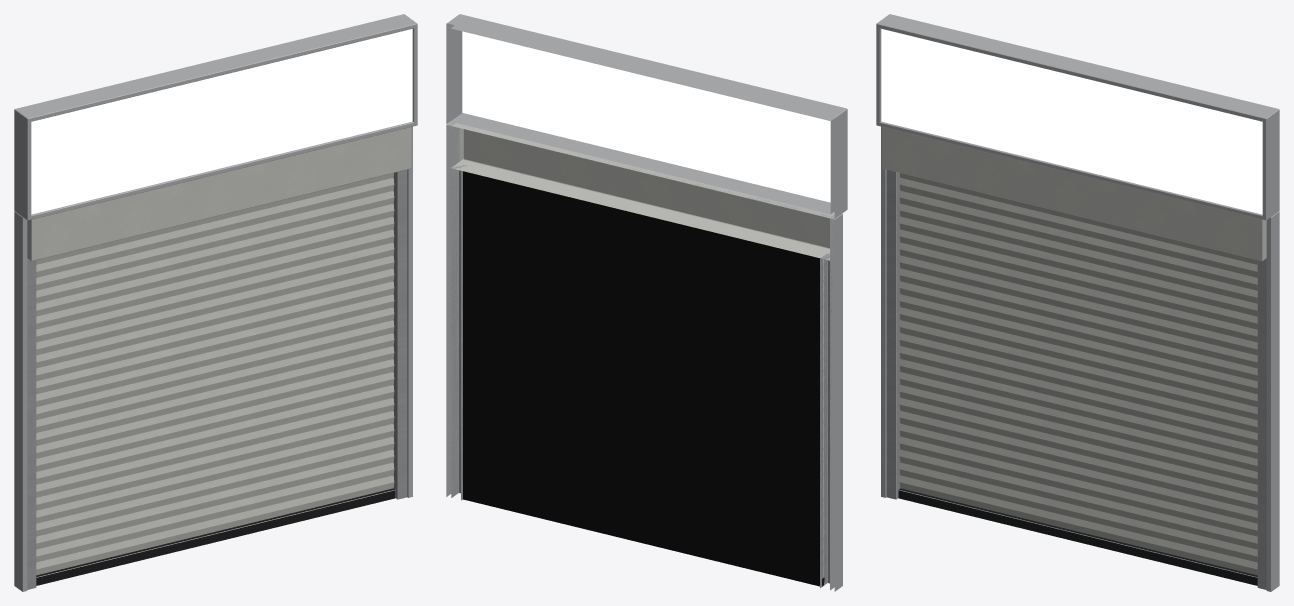
The model's file is gteki_shopfront_shutter_w2400_closed.glb.
The picture shows the model from 3 angles, left to right: view 1: azimuth 30°, elevation 25°; view 2: azimuth 150°, elevation 25°; view 3: azimuth 330°, elevation 25°; orthographic projection.
Parts seen in each view (by area): view 1: VIS_curtain, VIS_art, VIS_frame, VIS_panels, VIS_fascia; view 2: VIS_backing, VIS_art, VIS_panels, VIS_fascia, VIS_frame, VIS_curtain; view 3: VIS_curtain, VIS_art, VIS_frame, VIS_panels, VIS_fascia.
Part boxes in pixels (x1,y1,x2,y2): VIS_curtain: (36, 173, 394, 575); VIS_art: (31, 29, 412, 214); VIS_frame: (14, 126, 412, 591); VIS_panels: (27, 127, 411, 261); VIS_fascia: (14, 14, 417, 220); VIS_backing: (463, 171, 819, 586); VIS_art: (462, 31, 830, 202); VIS_panels: (451, 123, 834, 260); VIS_fascia: (446, 14, 847, 218); VIS_frame: (446, 122, 842, 591); VIS_curtain: (550, 189, 824, 577); VIS_curtain: (899, 173, 1257, 575); VIS_art: (881, 29, 1262, 214); VIS_frame: (881, 126, 1279, 591); VIS_panels: (882, 127, 1266, 261); VIS_fascia: (876, 14, 1279, 220).
Size of the model in its own units: 2.4 by 2.8 by 0.14.
6 materials, 2 textured.
